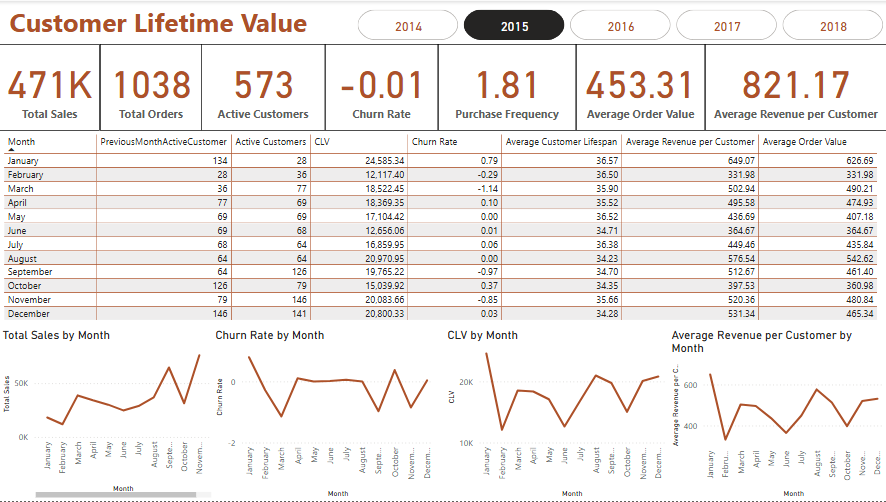

This screenshot's page, from the dashboard's own definition file:
{"tool":"powerbi","page":{"name":"Page 1","canvas":[1280,720],"ordinal":0},"visuals":[{"type":"textbox","box":[10.1,0,460.8,83.5],"z":0},{"type":"advancedSlicerVisual","fields":{"Values":["CalendarTable.Year"]},"box":[511.2,7.2,767.5,54.7],"z":1000},{"type":"card","fields":{"Values":["Sample - Superstore.Total Sales"]},"box":[0,61.9,145.4,125.3],"z":2000},{"type":"card","fields":{"Values":["Sample - Superstore.Total Orders"]},"box":[145.4,61.9,146.9,125.3],"z":3000},{"type":"card","fields":{"Values":["Sample - Superstore.Active Customers"]},"box":[290.9,61.9,178.6,125.3],"z":4000},{"type":"card","fields":{"Values":["Sample - Superstore.Churn Rate"]},"box":[469.4,61.9,162.7,125.3],"z":5000},{"type":"card","fields":{"Values":["Sample - Superstore.Purchase Frequency"]},"box":[632.2,61.9,198.7,125.3],"z":6000},{"type":"card","fields":{"Values":["Sample - Superstore.Average Order Value"]},"box":[830.9,61.9,185.8,125.3],"z":7000},{"type":"card","title":"Aww","fields":{"Values":["Sample - Superstore.Average Revenue per Customer"]},"box":[1016.6,61.9,262.1,125.3],"z":8000},{"type":"tableEx","fields":{"Values":["CalendarTable.Month","Sample - Superstore.PreviousMonthActiveCustomer","Sample - Superstore.Active Customers","Sample - Superstore.CLV","Sample - Superstore.Churn Rate","Sample - Superstore.Average Customer Lifespan","Sample - Superstore.Average Revenue per Customer","Sample - Superstore.Average Order Value"]},"box":[1.4,187.2,1278.7,283.7],"z":9000},{"type":"lineChart","fields":{"Y":["Sample - Superstore.Total Sales"],"Category":["CalendarTable.Month"]},"box":[0,470.9,311,249.1],"z":10000},{"type":"lineChart","fields":{"Y":["Sample - Superstore.Churn Rate"],"Category":["CalendarTable.Month"]},"box":[306.7,470.9,324,249.1],"z":11000},{"type":"lineChart","fields":{"Category":["CalendarTable.Month"],"Y":["Sample - Superstore.CLV"]},"box":[640.8,470.9,322.6,249.1],"z":12000},{"type":"lineChart","fields":{"Category":["CalendarTable.Month"],"Y":["Sample - Superstore.Average Revenue per Customer"]},"box":[963.4,470.9,315.4,249.1],"z":13000}]}

Visuals, with their boxes in screenshot pixels (x1, y1, x2, y2), scaled from the page's 1280x720 canvas onto the 886x502 screenshot:
textbox: <bbox>7, 0, 326, 58</bbox>
advancedSlicerVisual - CalendarTable.Year: <bbox>354, 5, 885, 43</bbox>
card - Sample - Superstore.Total Sales: <bbox>0, 43, 101, 131</bbox>
card - Sample - Superstore.Total Orders: <bbox>101, 43, 202, 131</bbox>
card - Sample - Superstore.Active Customers: <bbox>201, 43, 325, 131</bbox>
card - Sample - Superstore.Churn Rate: <bbox>325, 43, 438, 131</bbox>
card - Sample - Superstore.Purchase Frequency: <bbox>438, 43, 575, 131</bbox>
card - Sample - Superstore.Average Order Value: <bbox>575, 43, 704, 131</bbox>
"Aww" card: <bbox>704, 43, 885, 131</bbox>
tableEx - CalendarTable.Month x Sample - Superstore.PreviousMonthActiveCustomer: <bbox>1, 131, 885, 328</bbox>
lineChart - Sample - Superstore.Total Sales x CalendarTable.Month: <bbox>0, 328, 215, 501</bbox>
lineChart - Sample - Superstore.Churn Rate x CalendarTable.Month: <bbox>212, 328, 437, 501</bbox>
lineChart - CalendarTable.Month x Sample - Superstore.CLV: <bbox>444, 328, 667, 501</bbox>
lineChart - CalendarTable.Month x Sample - Superstore.Average Revenue per Customer: <bbox>667, 328, 885, 501</bbox>
